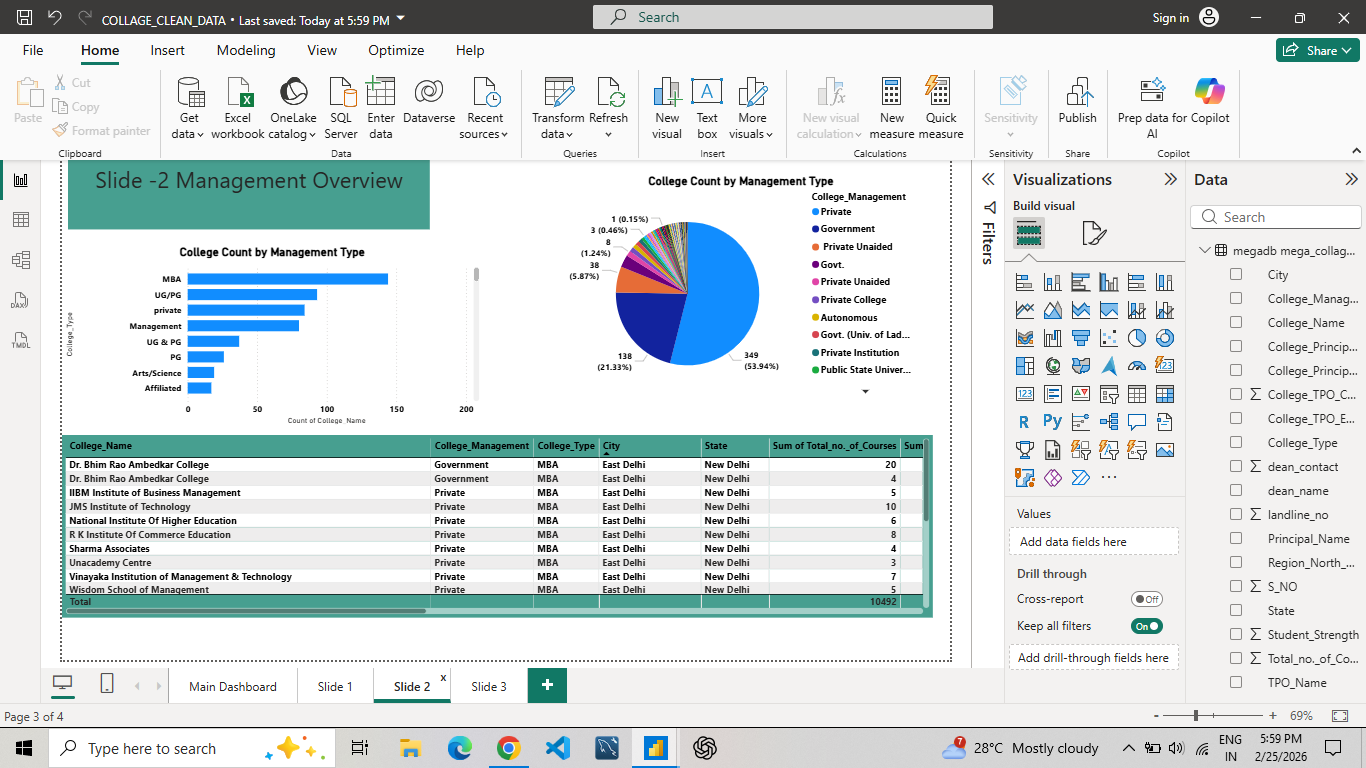

What the dashboard file says about the page in this screenshot:
{"tool":"powerbi","page":{"name":"Slide 2","canvas":[1280,720],"ordinal":2},"visuals":[{"type":"textbox","box":[8.6,0,521.4,100],"z":0},{"type":"clusteredBarChart","title":"College Count by Management Type","fields":{"Category":["megadb mega_collage_data.College_Type"],"Y":["CountNonNull(megadb mega_collage_data.College_Name)"]},"box":[0,122.9,605.7,262.9],"z":1000},{"type":"pieChart","title":"College Count by Management Type","fields":{"Category":["megadb mega_collage_data.College_Management"],"Y":["CountNonNull(megadb mega_collage_data.College_Name)"]},"box":[717.1,20,521.4,325.7],"z":2000},{"type":"tableEx","fields":{"Values":["megadb mega_collage_data.College_Name","megadb mega_collage_data.College_Management","megadb mega_collage_data.College_Type","megadb mega_collage_data.City","megadb mega_collage_data.State","Sum(megadb mega_collage_data.Total_no._of_Courses)","Sum(megadb mega_collage_data.Student_Strength)","megadb mega_collage_data.Principal_Name","megadb mega_collage_data.College_Principal_Contact_Number","megadb mega_collage_data.College_Principal_Email","megadb mega_collage_data.dean_name","megadb mega_collage_data.dean_contact"]},"box":[0,395.7,1254.3,262.9],"z":3000}]}

Visuals, with their boxes on the page's 1280x720 design canvas (x1, y1, x2, y2). These are canvas units, not pixel positions in the 1366x768 screenshot, which may show the page scaled, cropped or inside an application window:
textbox: [9,0,530,100]
"College Count by Management Type" clusteredBarChart: [0,123,606,386]
"College Count by Management Type" pieChart: [717,20,1238,346]
tableEx - megadb mega_collage_data.College_Name x megadb mega_collage_data.College_Management: [0,396,1254,659]
